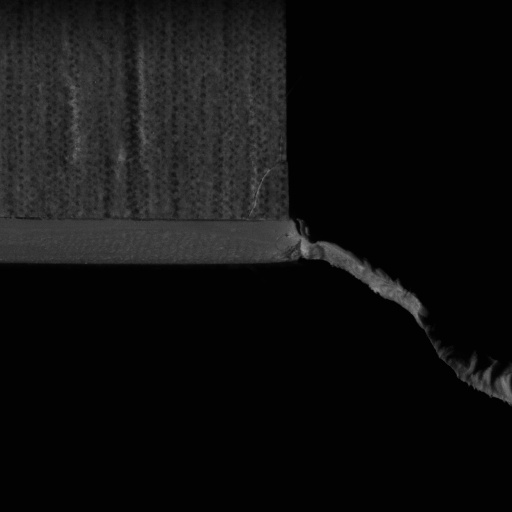changdai: (282, 217, 511, 404)
